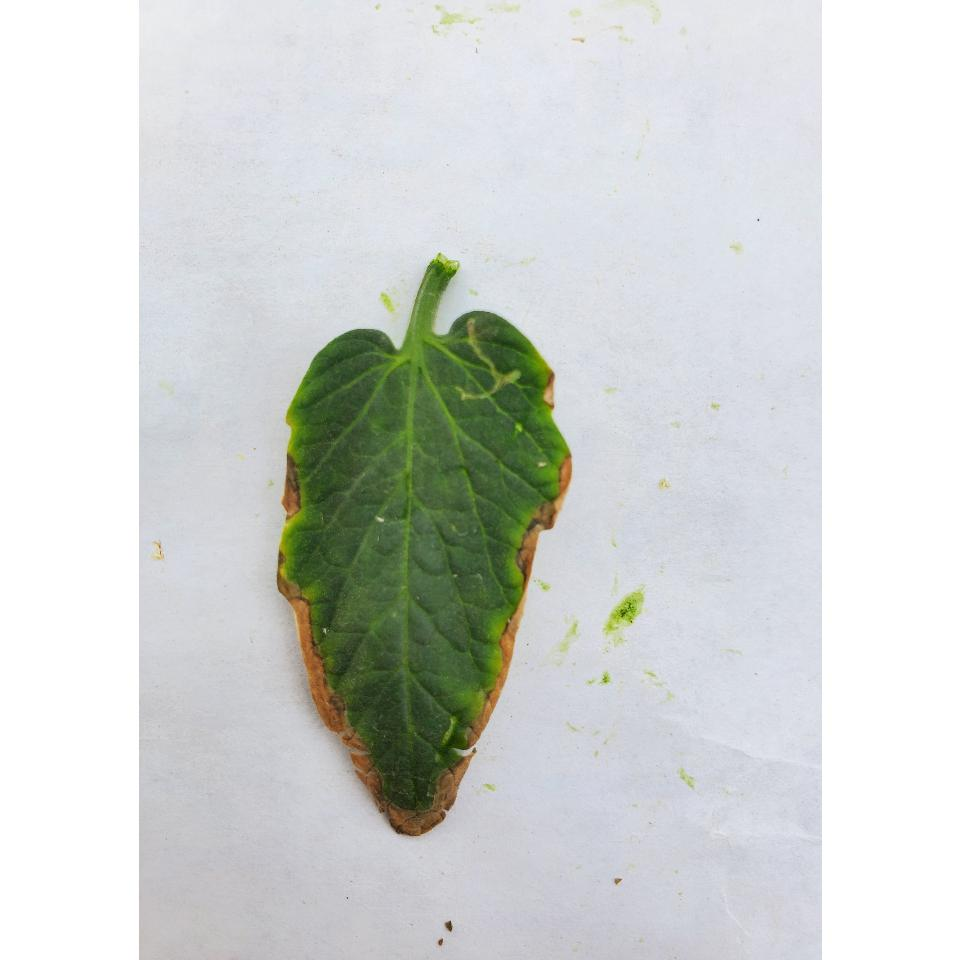tomato_bacterial_blight: (278, 263, 576, 840)
